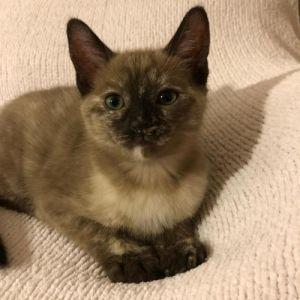siamese: (65, 3, 220, 167)
